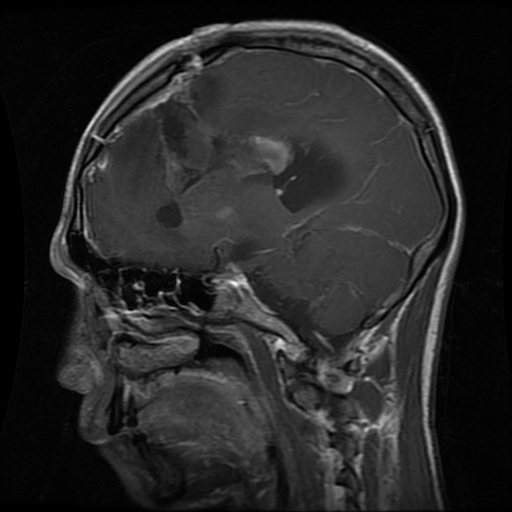glioma: (154, 71, 350, 228)
